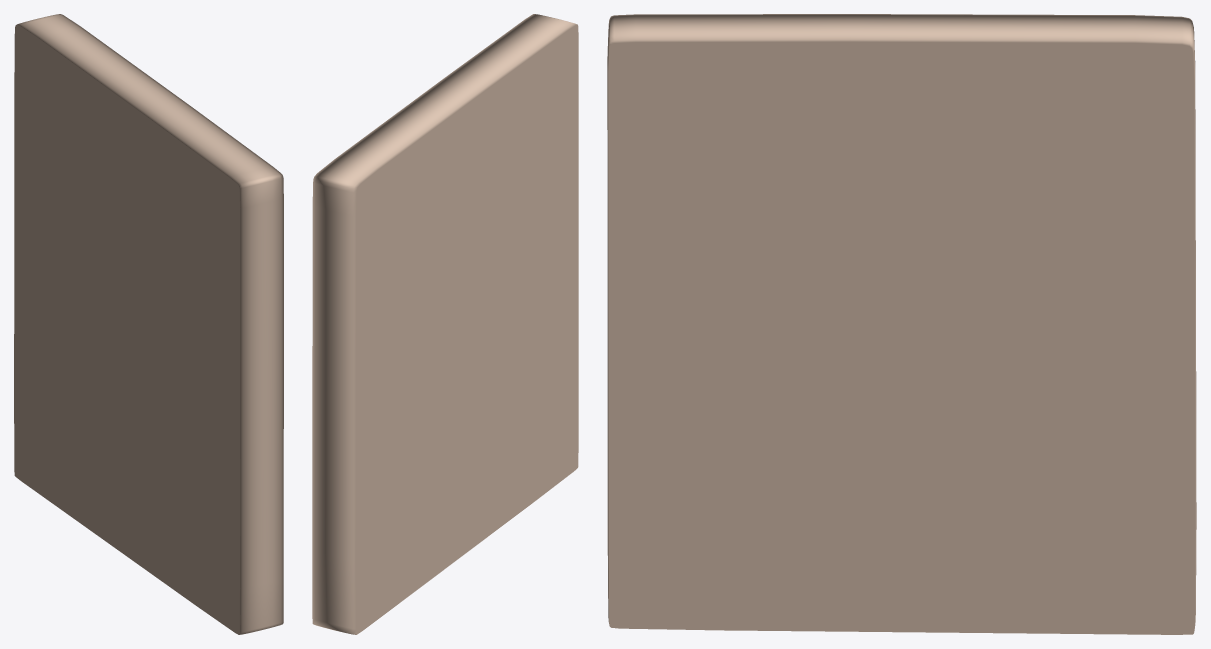
The model's file is WhiteWall.glb.
The picture shows the model from 3 angles, left to right: view 1: azimuth 30°, elevation 25°; view 2: azimuth 150°, elevation 25°; view 3: azimuth 270°, elevation 25°; orthographic projection. The views are drawn at different scales.
Visible parts, largest first — view 1: p0000.86735; view 2: p0000.86735; view 3: p0000.86735.
Boxes of the visible parts, box(x1,y1,x2,y2) form: p0000.86735: box(14, 14, 283, 634); p0000.86735: box(312, 14, 578, 634); p0000.86735: box(607, 14, 1196, 634).
Size of the model in its own units: 0.4149 by 4.12 by 3.69.
